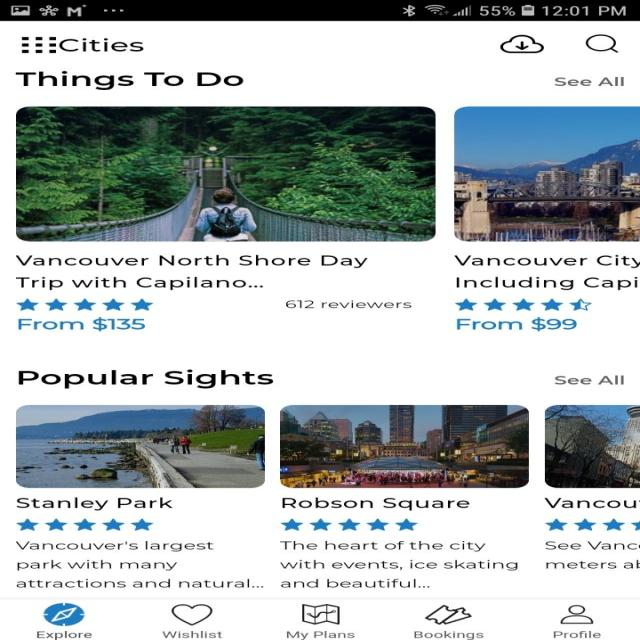Icon: (454, 298, 591, 311), (281, 518, 418, 530), (16, 518, 153, 530), (17, 298, 154, 310), (544, 518, 639, 530), (44, 602, 84, 626), (424, 604, 471, 624), (170, 603, 212, 625), (498, 35, 544, 53), (302, 603, 339, 624), (559, 604, 593, 624), (585, 34, 618, 53), (21, 37, 57, 54)
Image: (15, 106, 436, 242), (453, 106, 639, 242), (279, 405, 528, 487), (16, 405, 265, 487), (544, 405, 639, 488)
Text: (16, 254, 368, 290), (280, 540, 518, 588), (16, 541, 263, 587), (453, 254, 639, 290), (18, 368, 273, 388), (15, 70, 244, 90), (544, 540, 639, 568), (282, 497, 469, 510), (18, 316, 146, 332), (16, 497, 172, 510), (456, 316, 576, 331), (59, 37, 144, 52), (286, 300, 412, 309), (543, 497, 639, 508), (554, 76, 624, 86), (285, 630, 355, 640), (554, 375, 624, 384), (413, 630, 483, 639), (36, 630, 92, 639), (161, 630, 222, 638), (553, 630, 601, 638)
